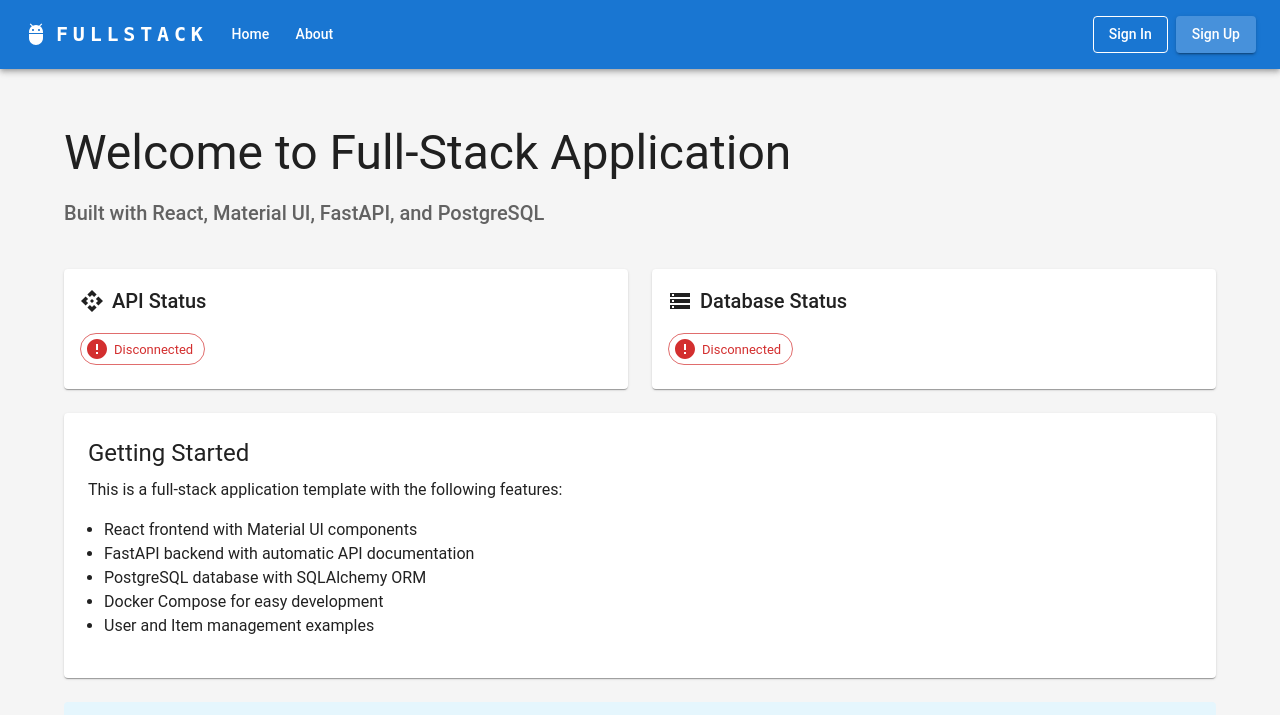
Test: MUI Template - Authentication › Registration › should navigate to registration page
Click the button "Sign Up" at (1216, 35), box [1176,16,1256,53]
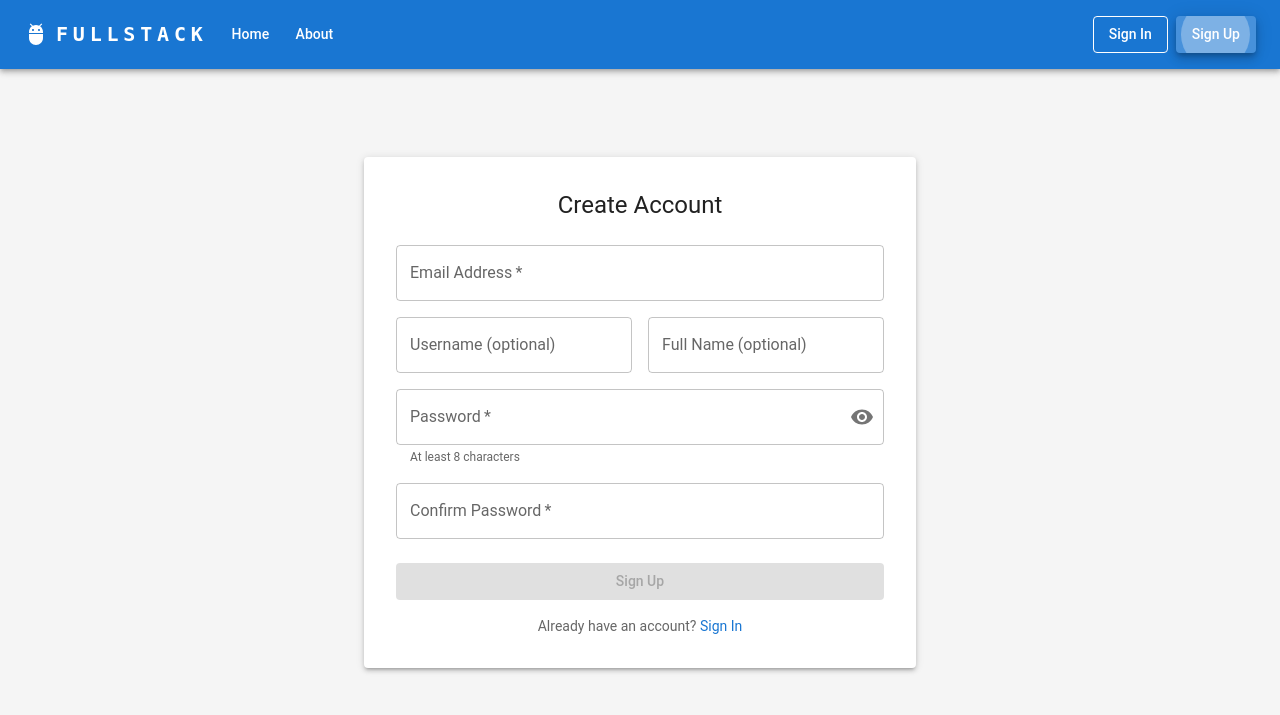
expect the heading "Create Account" is shown: met, box [558,190,722,218]
